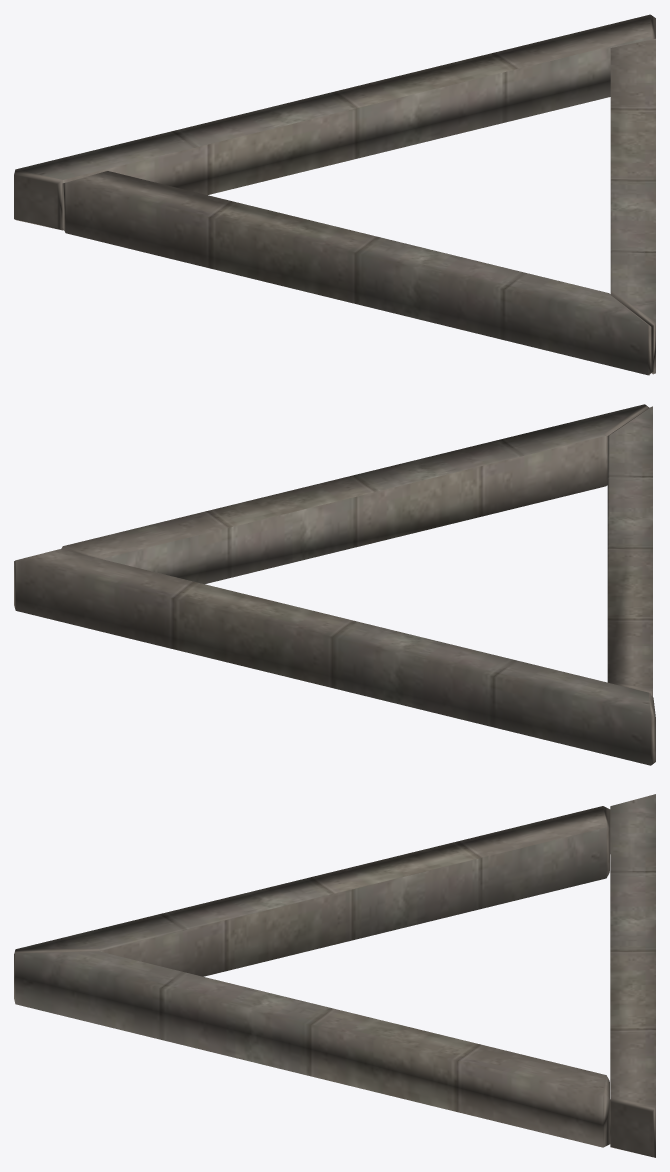
File: floor.triangle.crypt.frame.glb
3 views of the same model, one above another, from view 1: azimuth 30°, elevation 25°; view 2: azimuth 150°, elevation 25°; view 3: azimuth 270°, elevation 25° (orthographic).
Visible parts, largest first — view 1: floor.triangle.crypt.frame; view 2: floor.triangle.crypt.frame; view 3: floor.triangle.crypt.frame.
Boxes of the visible parts, <box> form: floor.triangle.crypt.frame: <box>14,14,655,375</box>; floor.triangle.crypt.frame: <box>14,404,655,765</box>; floor.triangle.crypt.frame: <box>14,794,655,1157</box>.
Bounding box in the file's own units: 3.09 × 0.2435 × 2.65.
Materials: 1 (1 with a texture image).
